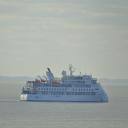cruises: (20, 64, 111, 104)
